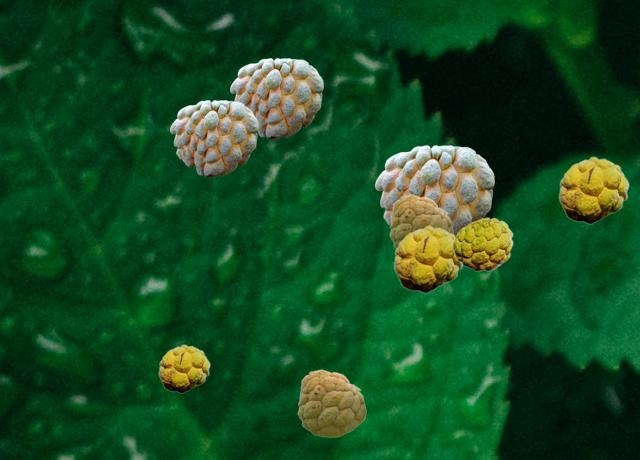atis: (375, 145, 493, 233), (230, 58, 322, 138), (170, 100, 257, 176), (558, 156, 628, 223), (393, 225, 463, 292), (297, 369, 365, 436), (389, 194, 452, 248), (452, 217, 512, 270), (158, 344, 209, 392)
